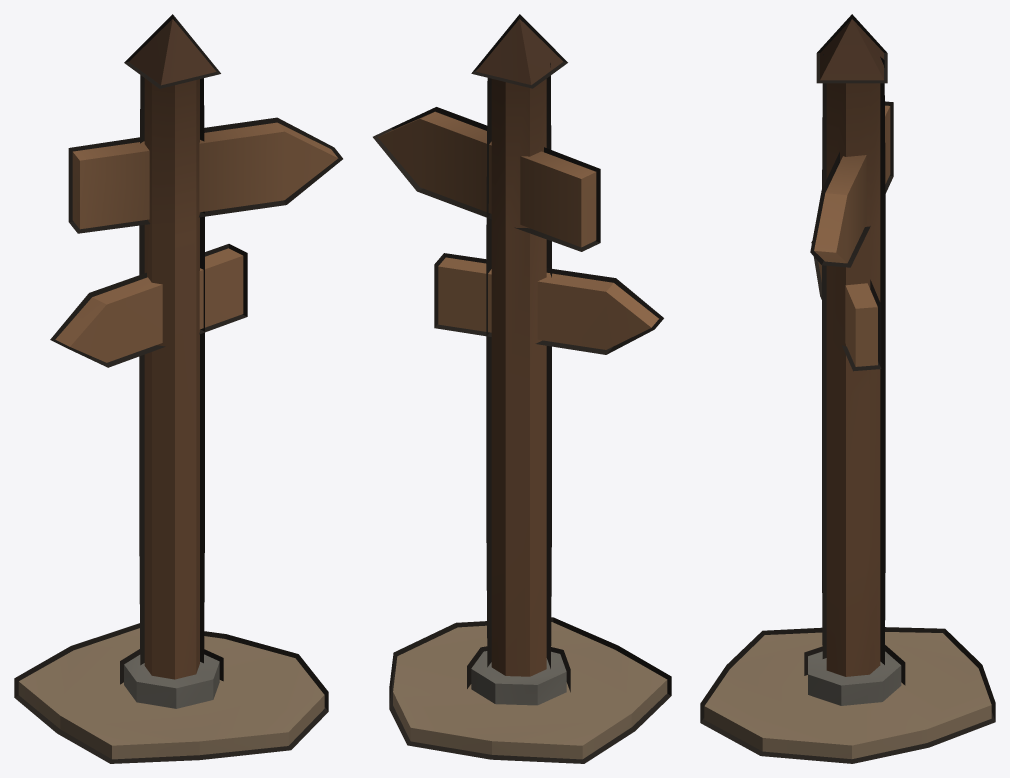
File: panneau.glb
The picture shows the model from 3 angles, left to right: view 1: azimuth 30°, elevation 25°; view 2: azimuth 150°, elevation 25°; view 3: azimuth 270°, elevation 25°; orthographic projection.
Visible parts, largest first — view 1: panneau, panneau_outline; view 2: panneau, panneau_outline; view 3: panneau, panneau_outline.
Part boxes in pixels (left/top/right/bottom): panneau: left=18, top=19, right=338, bottom=759; panneau_outline: left=14, top=14, right=342, bottom=763; panneau: left=378, top=19, right=667, bottom=759; panneau_outline: left=373, top=14, right=671, bottom=763; panneau: left=704, top=19, right=991, bottom=759; panneau_outline: left=700, top=14, right=995, bottom=763.
Bounding box in the file's own units: 0.8651 × 2.01 × 0.7822.
